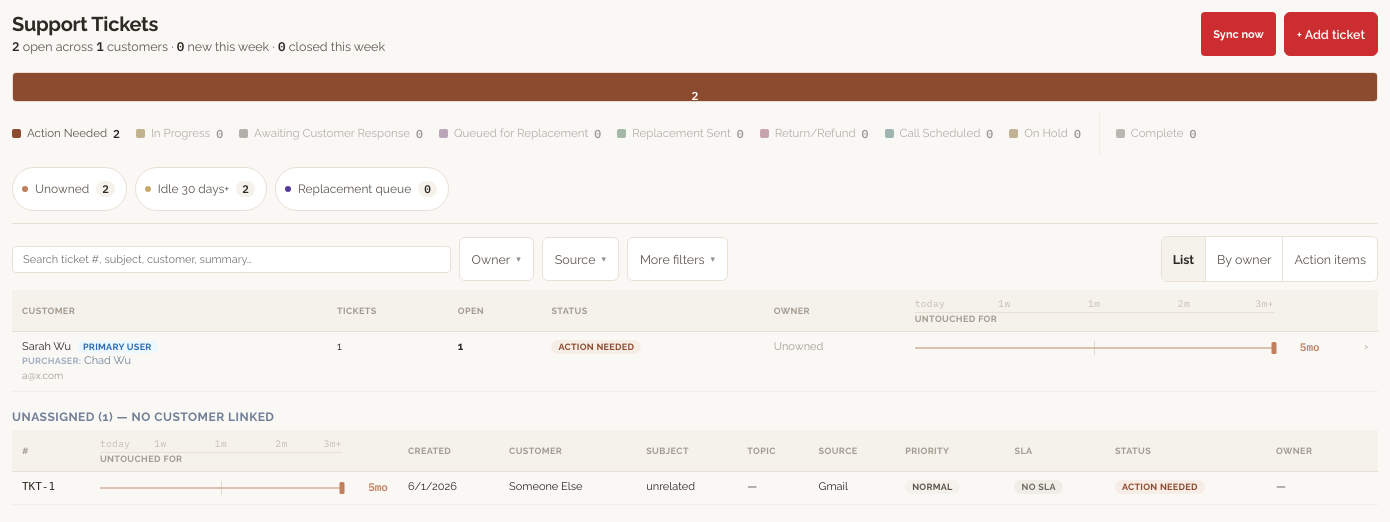
Test: SupportTab — purchaser vs primary user › finds the ticket when searching the primary user, who is not on the ticket row
The width and height of the screenshot is (1390, 522).
Type "Sarah" into the field named "search tickets". click: x=231, y=259
box: [12,246,451,272]
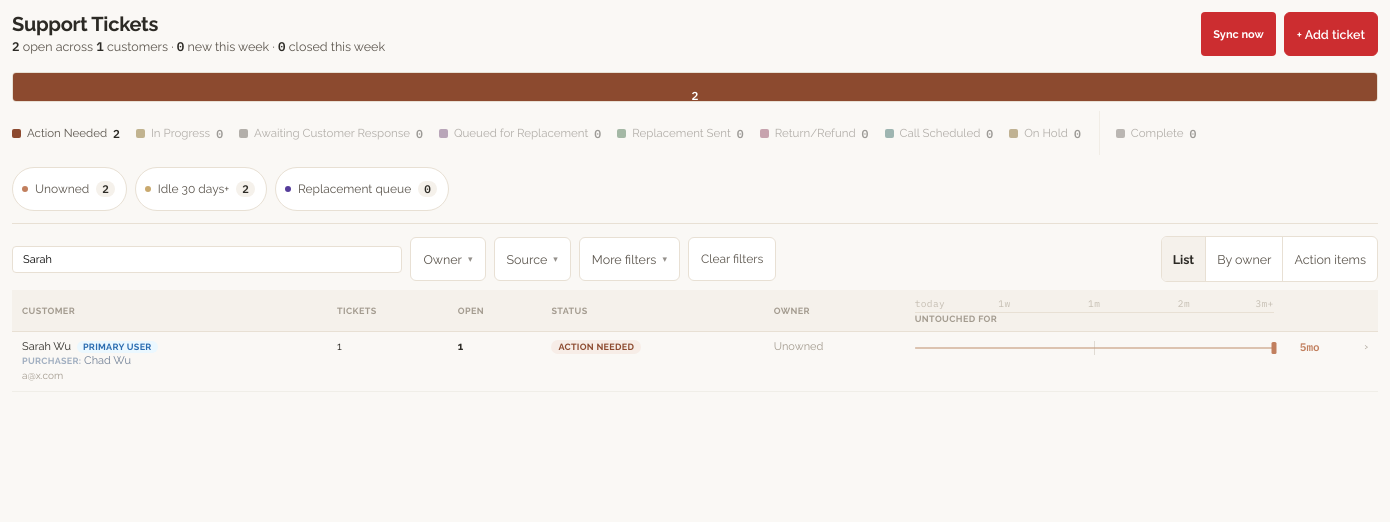
Expected: the text "Sarah Wu" is shown, [22,340,71,353]
Expected: the text "unrelated" is gone
